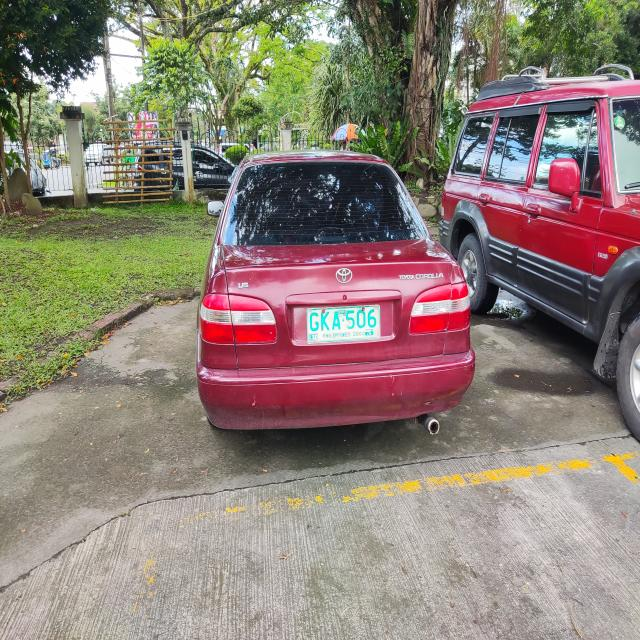plate: (305, 303, 382, 345)
